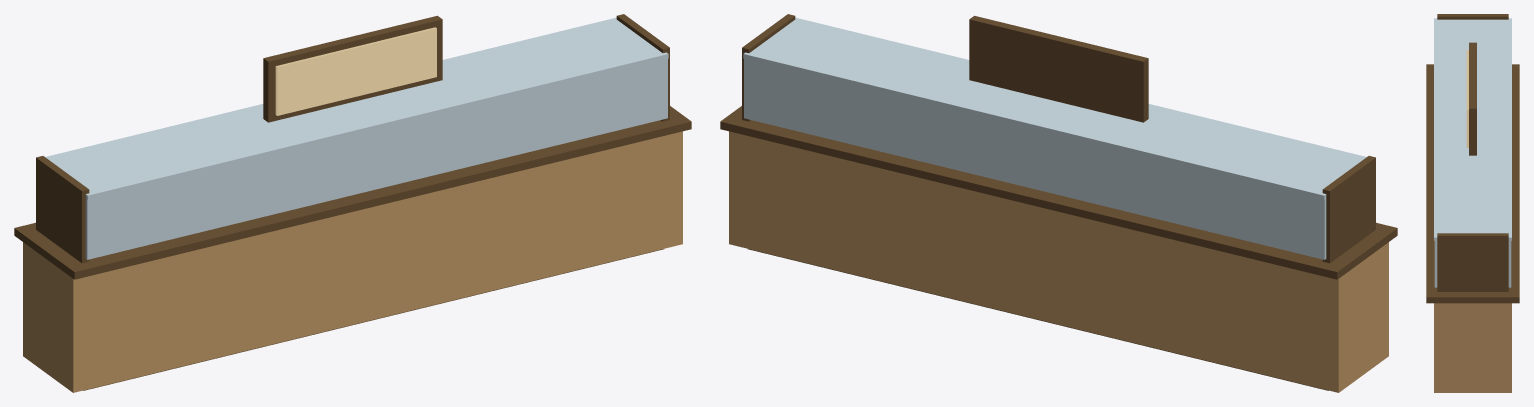
Rendered from bakery-counter.glb.
3 renders of one model, left to right at view 1: azimuth 30°, elevation 25°; view 2: azimuth 150°, elevation 25°; view 3: azimuth 270°, elevation 25°, orthographic. The views are drawn at different scales.
Visible parts, largest first — view 1: cabinet, casefront, casetop, countertop, menuface, casepost, menusign, casepost.001, kick; view 2: cabinet, caseback, casetop, countertop, menusign, casepost, casepost.001, kick; view 3: casetop, cabinet, countertop, casepost.001, menusign, casepost, menuface, casefront, caseback.
Part boxes in pixels (x1,y1,x2,y2): cabinet: (23,131,682,392); casefront: (85,58,667,259); casetop: (45,17,668,199); countertop: (14,106,691,279); menuface: (275,27,436,115); casepost: (36,156,89,263); menusign: (263,15,442,122); casepost.001: (616,14,669,121); kick: (83,249,663,390); cabinet: (729,131,1388,392); caseback: (744,58,1326,259); casetop: (743,17,1366,199); countertop: (720,106,1397,279); menusign: (969,15,1148,122); casepost: (1322,156,1375,263); casepost.001: (742,14,795,121); kick: (748,249,1328,390); casetop: (1434,18,1511,240); cabinet: (1434,303,1511,392); countertop: (1426,64,1519,303); casepost.001: (1437,233,1508,291); menusign: (1469,42,1476,155); casepost: (1437,14,1508,19); menuface: (1466,50,1468,147); casefront: (1434,240,1437,287); caseback: (1508,240,1511,287).
Bounding box in the file's own units: 4.25 × 1.75 × 0.72.
